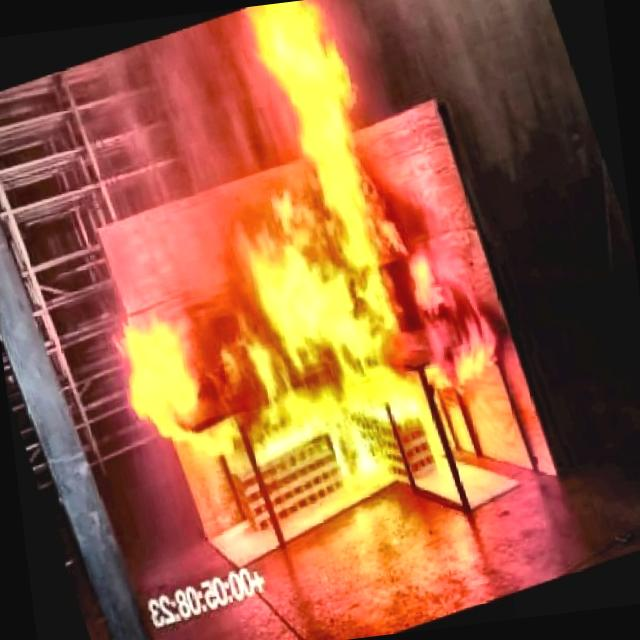fire: (19, 0, 522, 513)
